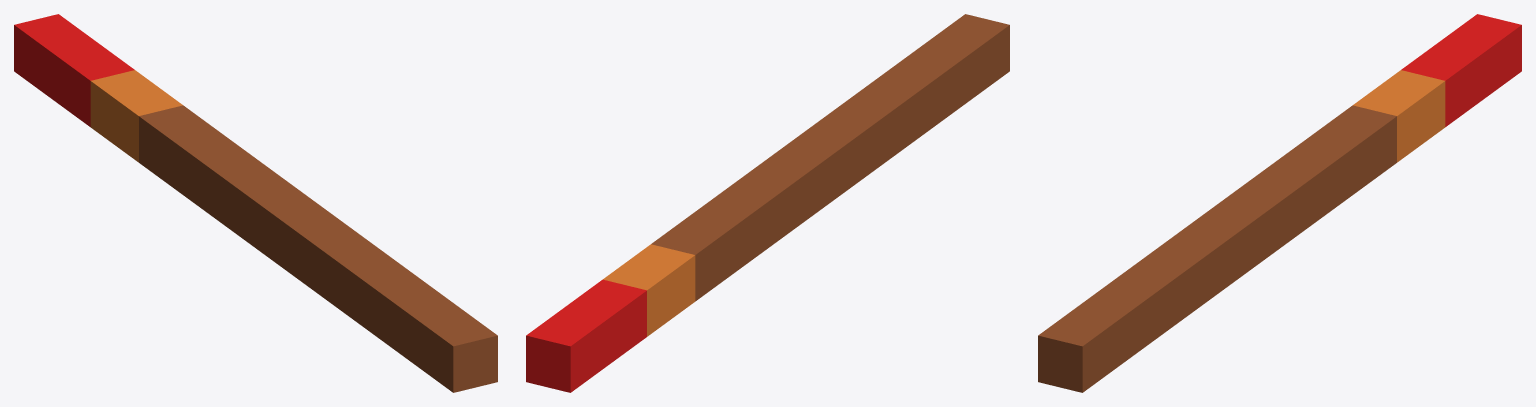
Rendered from heated_bronze.glb.
3 views of the same model, side by side, from view 1: azimuth 30°, elevation 25°; view 2: azimuth 150°, elevation 25°; view 3: azimuth 330°, elevation 25° (orthographic).
Parts seen in each view (by area): view 1: Cube; view 2: Cube; view 3: Cube.
Part boxes in pixels (box(x1,y1,x2,y2)): Cube: box(14, 14, 497, 392); Cube: box(526, 14, 1009, 392); Cube: box(1038, 14, 1521, 392).
Size of the model in its own units: 0.246 by 0.246 by 4.21.
